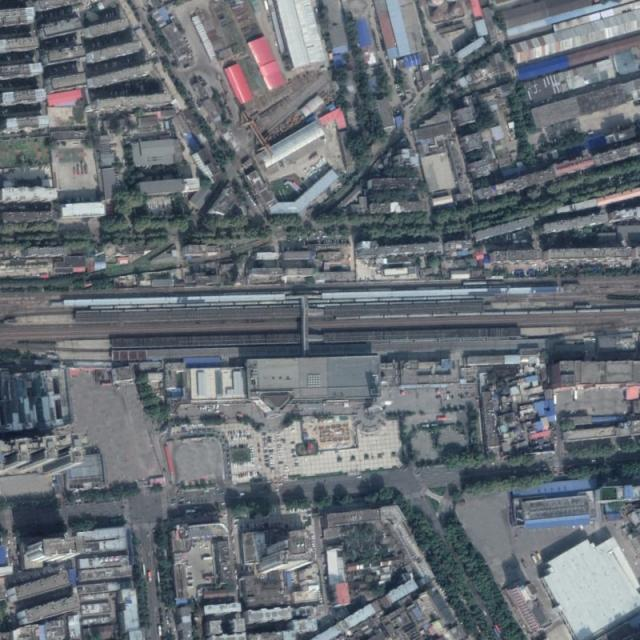vehicle: (493, 628, 500, 637), (494, 624, 501, 633), (531, 555, 538, 564), (147, 572, 152, 582), (142, 564, 146, 576), (522, 560, 528, 568), (202, 556, 213, 560), (158, 626, 162, 637), (574, 390, 578, 401), (537, 553, 542, 560), (422, 424, 430, 428), (186, 510, 196, 513), (431, 423, 438, 427)
